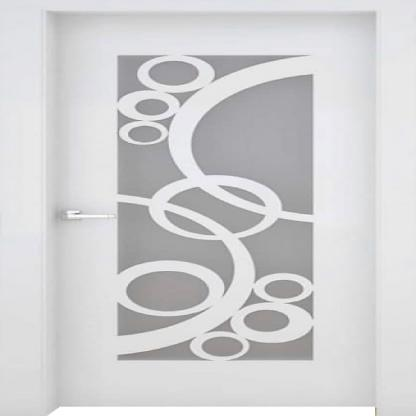door: (51, 13, 373, 407)
